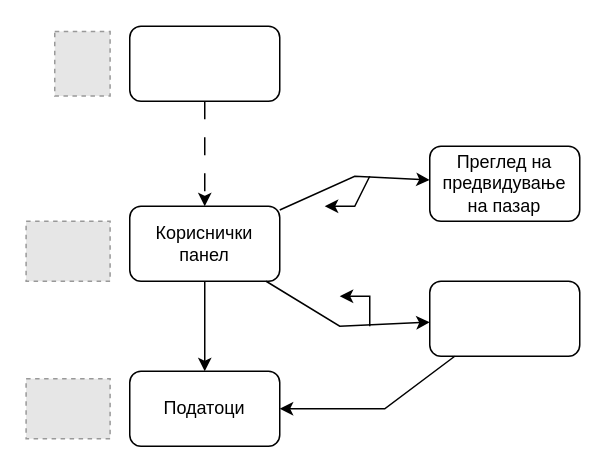
The diagram is 608 pixels wide and 473 high, and some of its shapes have lost their labels. Grey dashed boxes stand in for pictures. Here are the shapes that lost their labels. From the top down, the centre of each, then its label:
At point 204,63: "GUI".
At point 504,318: "Преглед на податоци".
